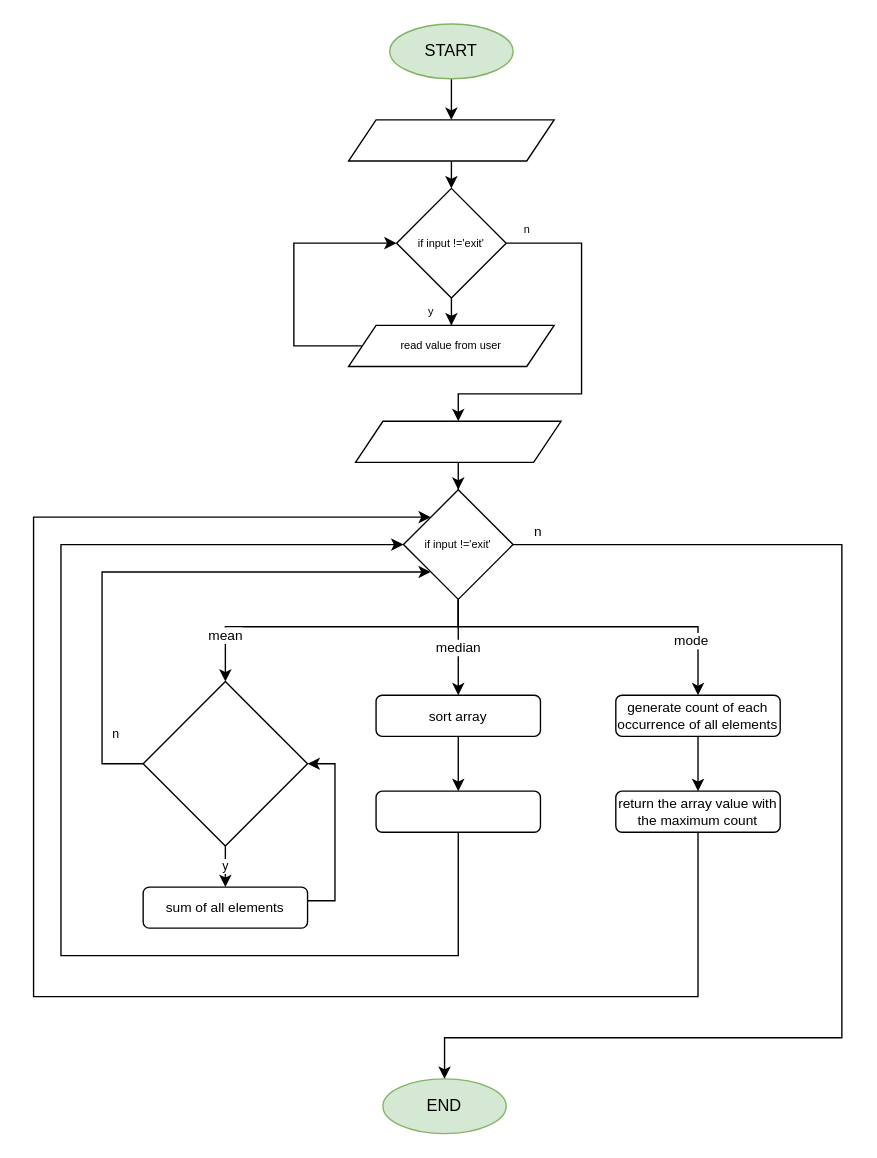
The diagram is 877 pixels wide and 1158 high, and some of its shapes have lost their labels. Here are the shapes that lost their labels. From the top down, the centre of each, then its label:
the point at 450,140: declare int array[]
the point at 457,441: read user choice for mean, median or mode
the point at 225,763: while i<number of non-null elements
the point at 457,811: return the middle value of the array
